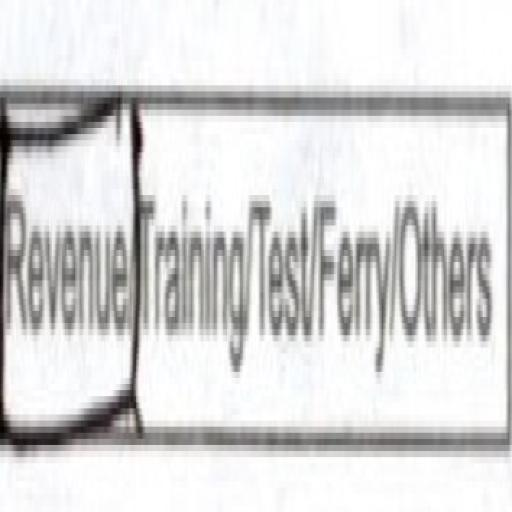check: (1, 31, 137, 512)
